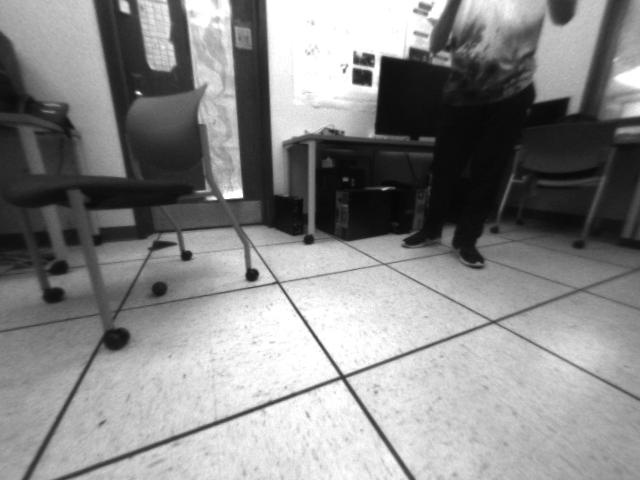dogtoy: (144, 275, 173, 301)
